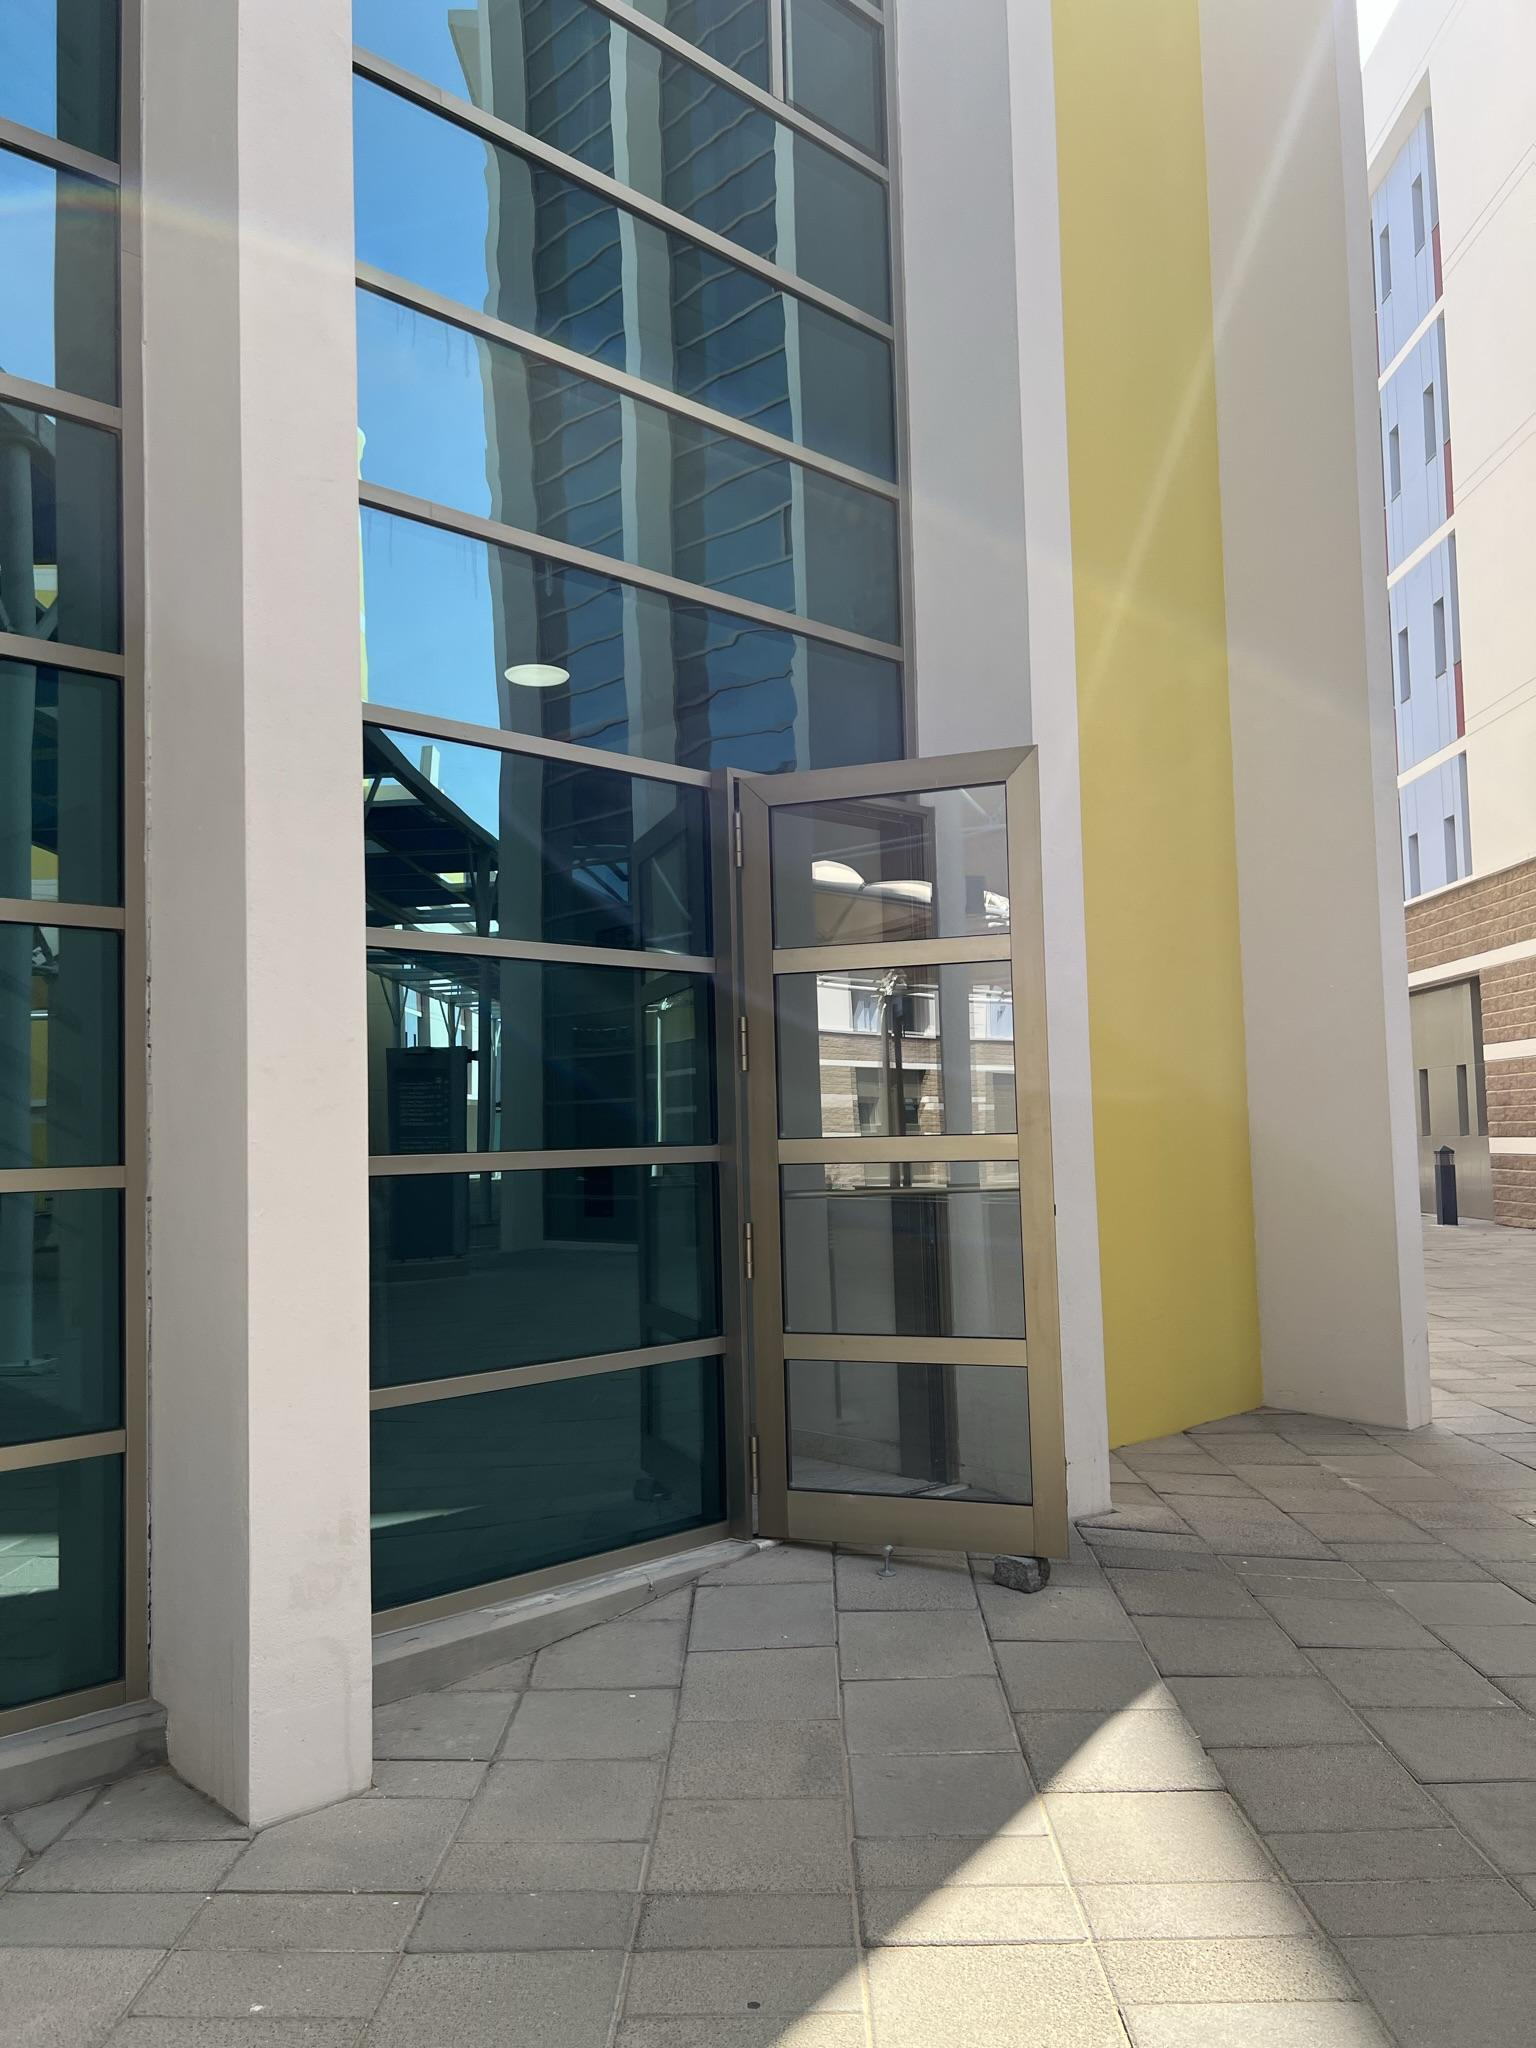door: (737, 771, 1062, 1558)
